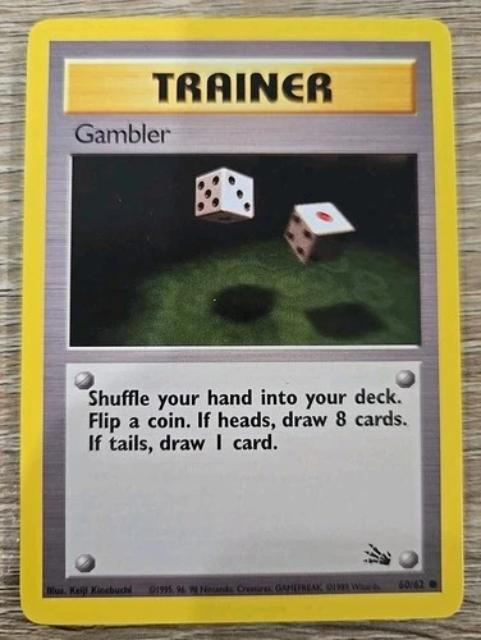Card: (11, 6, 475, 634)
Name: (67, 119, 175, 151)
